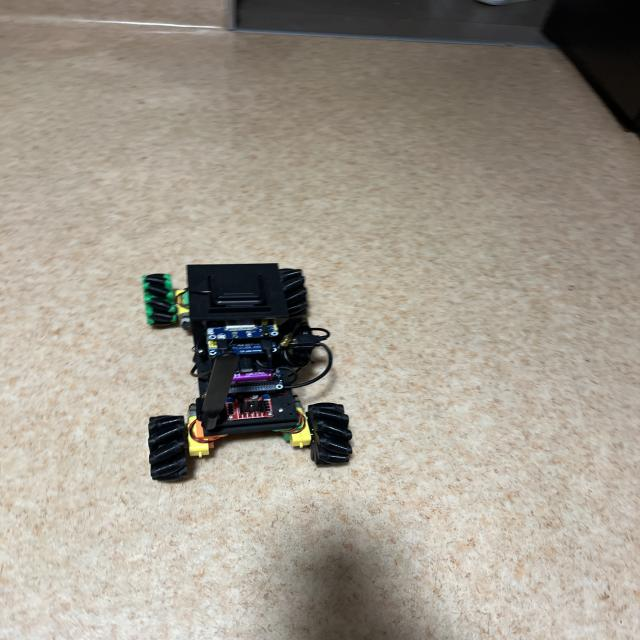robot: (142, 263, 352, 481)
